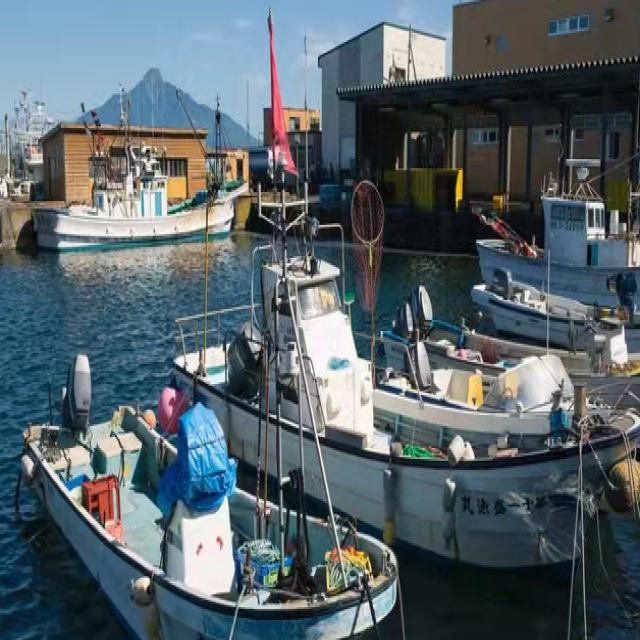fishing boat: (197, 264, 618, 550), (21, 322, 376, 640), (380, 266, 630, 395), (26, 140, 246, 236)
